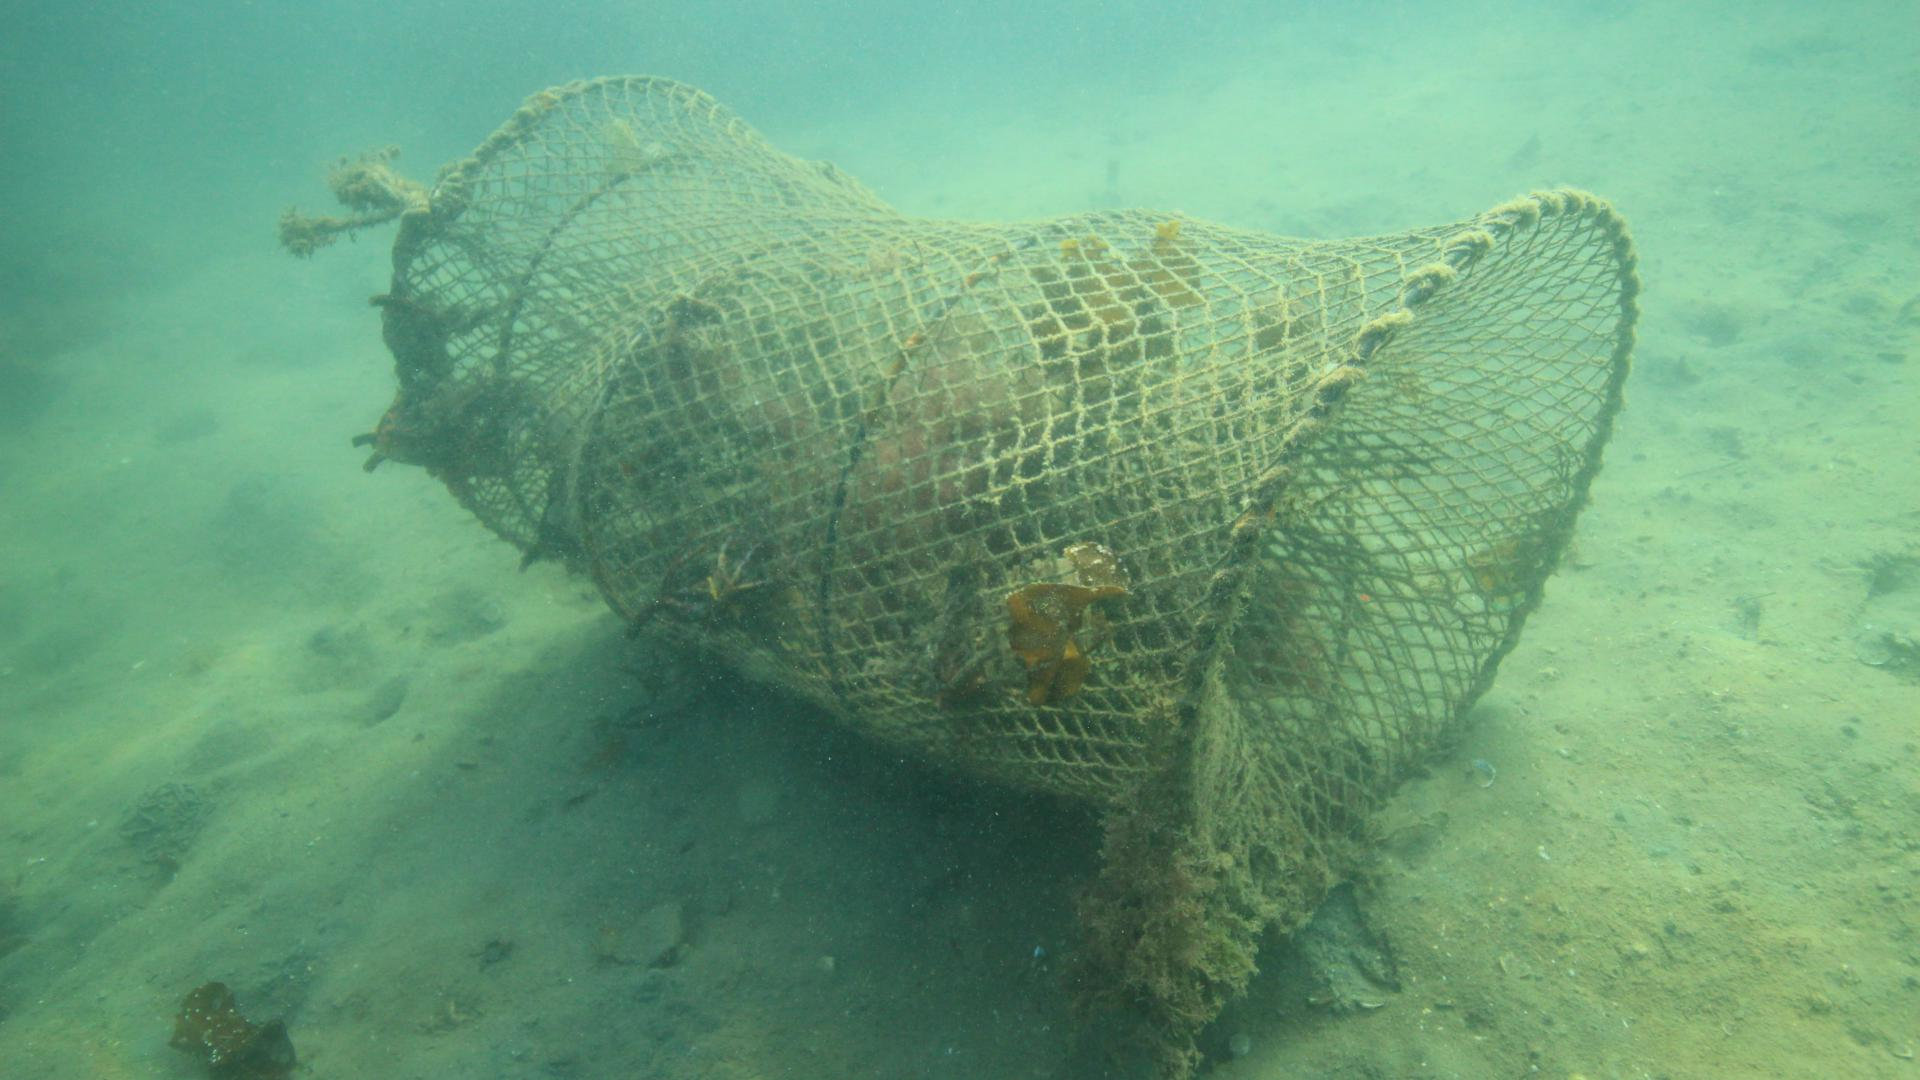spring fish trap: (386, 74, 1642, 884)
